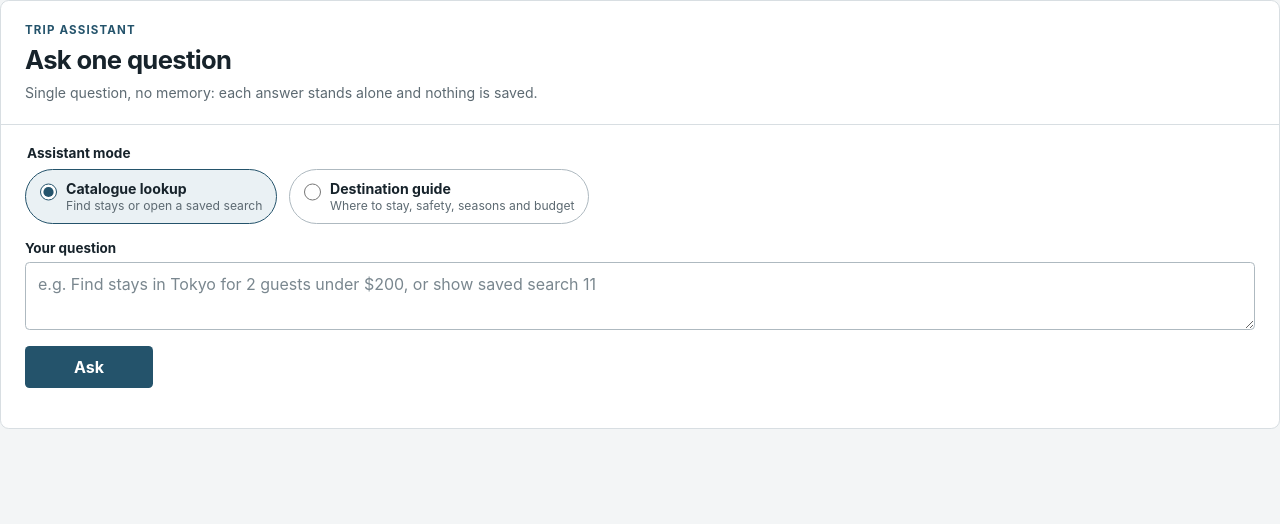
it: AssistantPanel › shows a distinct lookup_not_understood state
Replace the text in the text box with id "assistant-question" with "What is the weather?" at (640,296), box [25,262,1255,330]
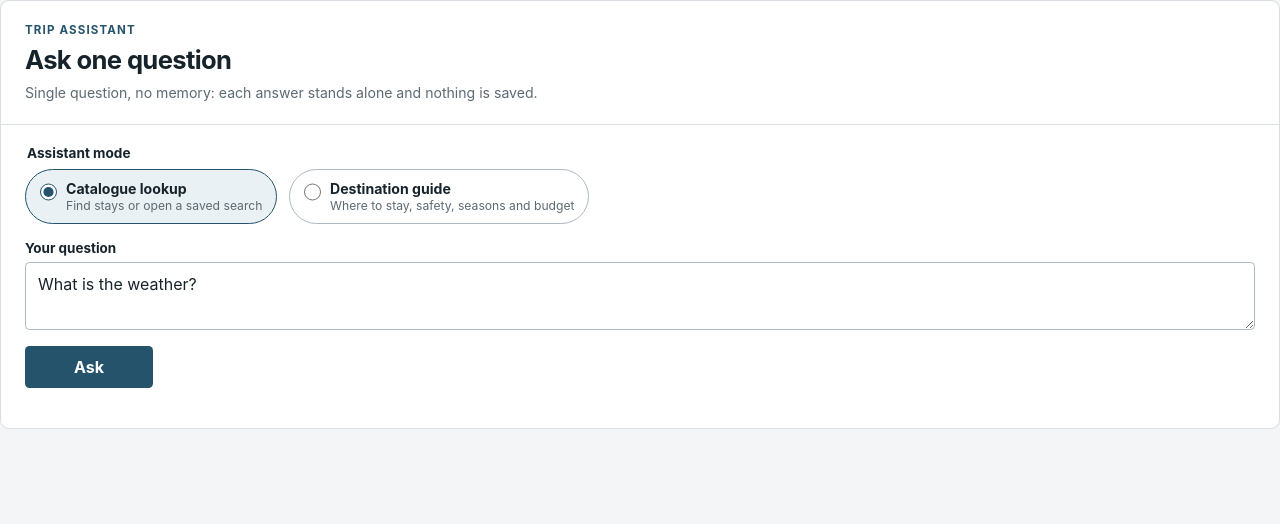
Click the button with class "assistant-submit".
click(89, 367)  # box [25,346,153,388]
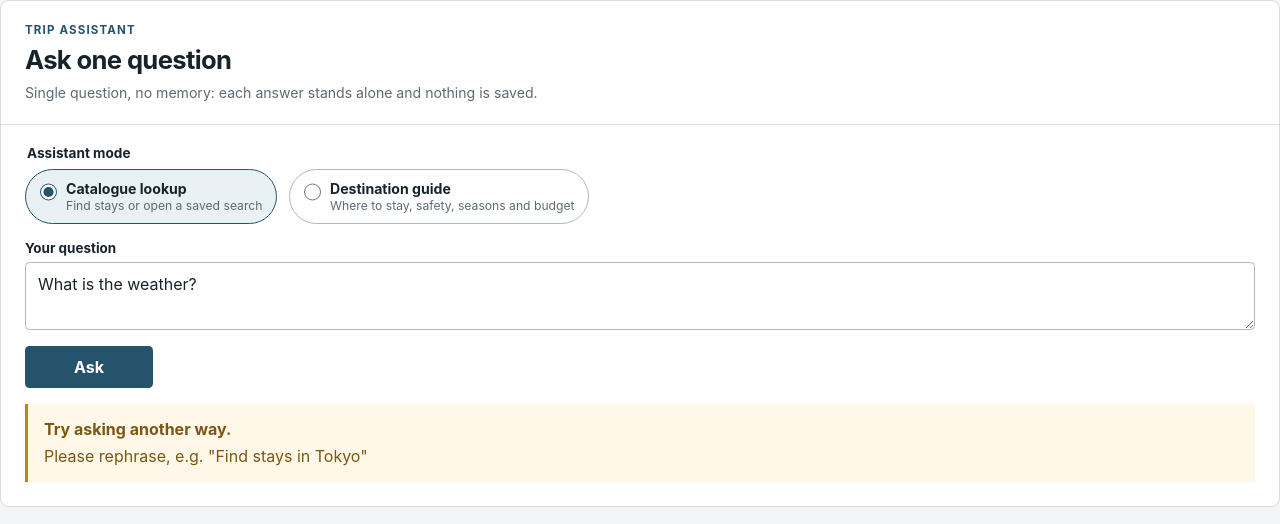
expect the text "Please rephrase" is shown: met, box [44,446,368,466]
